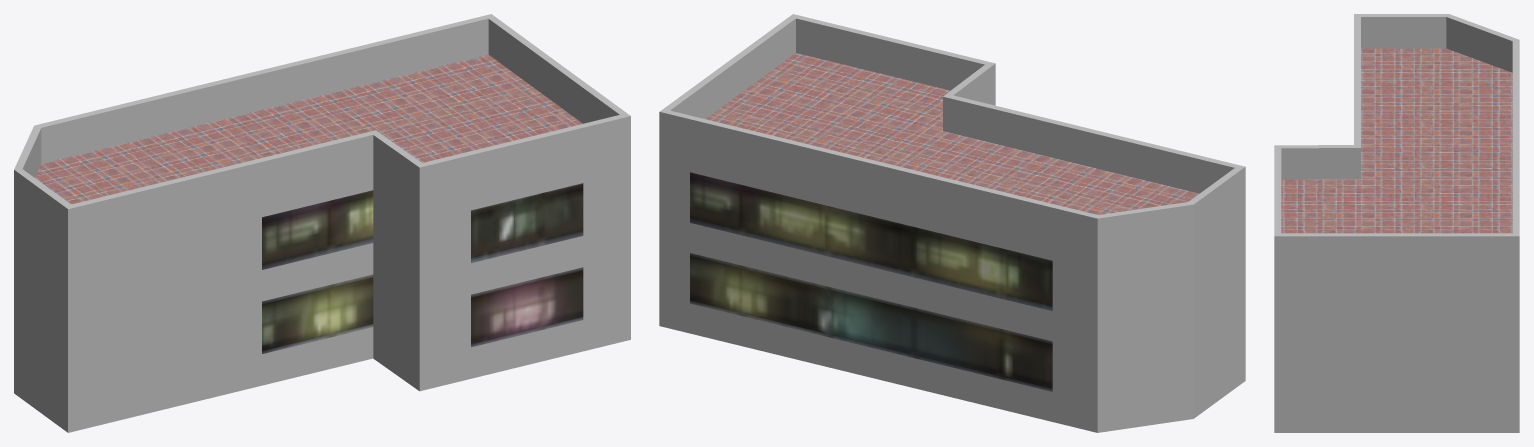
The model's file is hirise_parts03_2f.fbx.
3 renders of one model, left to right at view 1: azimuth 30°, elevation 25°; view 2: azimuth 150°, elevation 25°; view 3: azimuth 270°, elevation 25°, orthographic. The views are drawn at different scales.
Visible parts, largest first — view 1: hirise_parts03_2f; view 2: hirise_parts03_2f; view 3: hirise_parts03_2f.
Part boxes in pixels (x1,y1,x2,y2): hirise_parts03_2f: [14, 14, 630, 432]; hirise_parts03_2f: [659, 14, 1245, 432]; hirise_parts03_2f: [1274, 14, 1519, 432].
Bounding box in the file's own units: 19.92 × 8.23 × 9.3.
